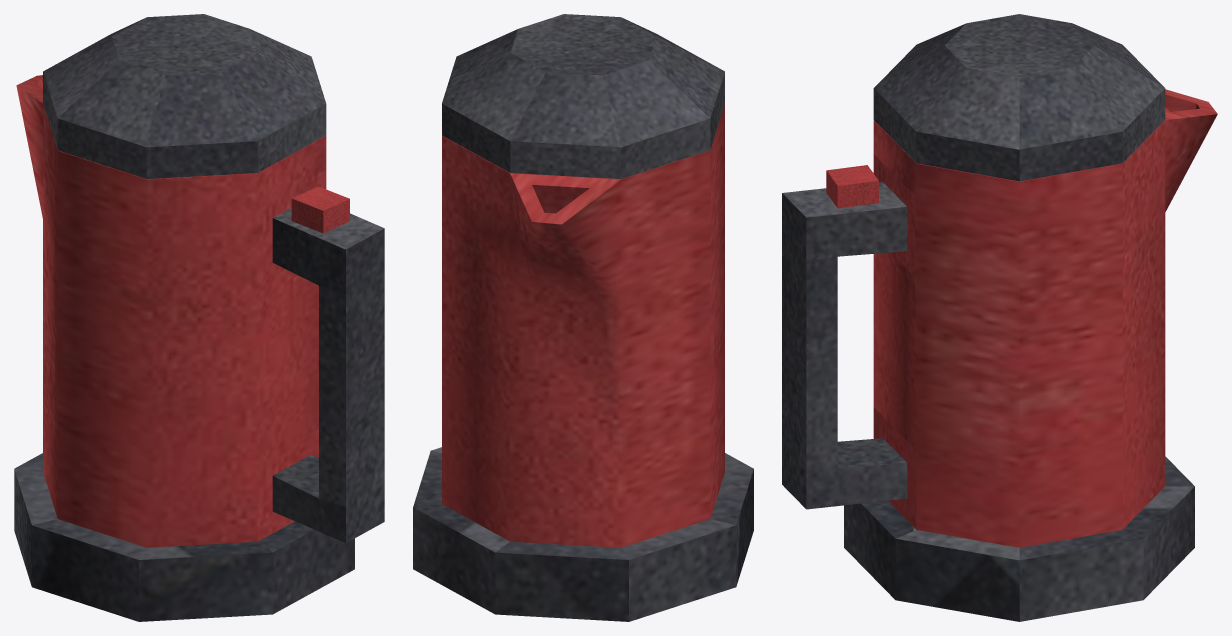
The model's file is kettle.FBX.
3 renders of one model, left to right at view 1: azimuth 30°, elevation 25°; view 2: azimuth 150°, elevation 25°; view 3: azimuth 270°, elevation 25°, orthographic.
Parts seen in each view (by area): view 1: Cylinder001, Object002, Object001, Object003, Box001; view 2: Cylinder001, Object002, Object001; view 3: Cylinder001, Object002, Object001, Object003, Box001.
Part boxes in pixels (bbox=[...]): Cylinder001: bbox=[16, 75, 326, 547]; Object002: bbox=[43, 14, 326, 179]; Object001: bbox=[14, 453, 354, 621]; Object003: bbox=[272, 208, 384, 542]; Box001: bbox=[291, 186, 349, 233]; Cylinder001: bbox=[442, 104, 724, 547]; Object002: bbox=[442, 14, 724, 179]; Object001: bbox=[413, 447, 753, 621]; Cylinder001: bbox=[873, 89, 1217, 547]; Object002: bbox=[873, 14, 1165, 181]; Object001: bbox=[844, 456, 1194, 621]; Object003: bbox=[782, 182, 907, 509]; Box001: bbox=[826, 165, 878, 208].
Bounding box in the file's own units: 78.39 × 124 × 97.38.
4 materials, 4 textured.
